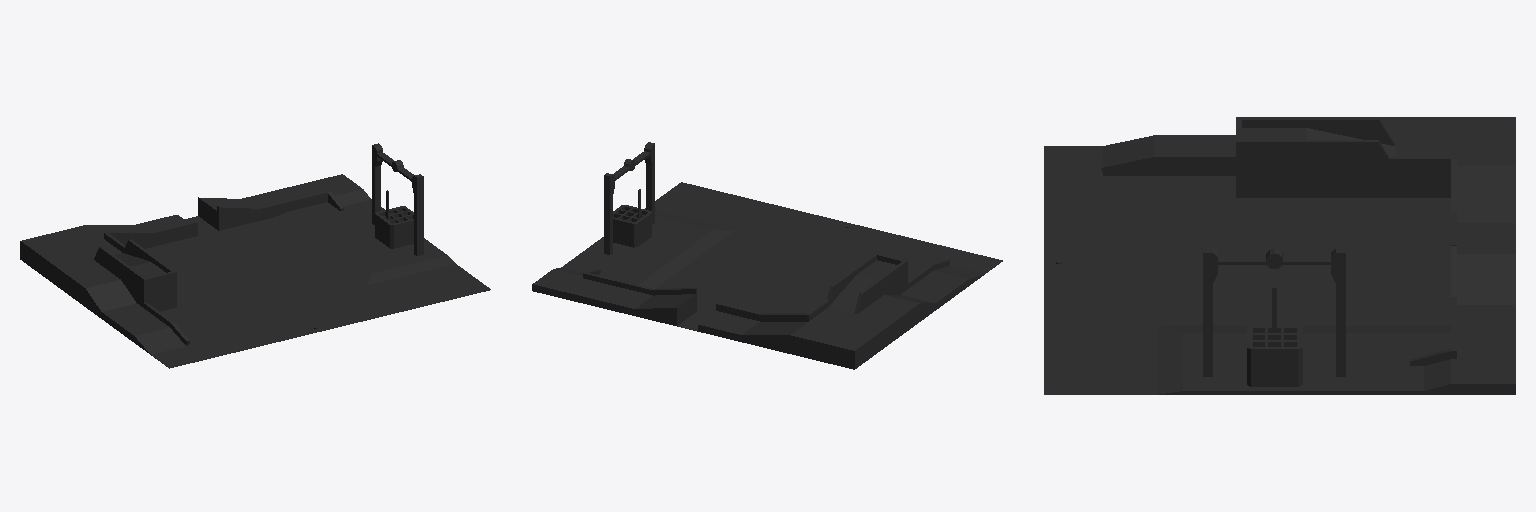
robot.urdf — rm_2v2:
<?xml version="1.0" encoding="utf-8"?>
<!-- This URDF was automatically created by SolidWorks to URDF Exporter! Originally created by [author] ([email redacted]) 
     Commit Version: 1.5.1-0-g916b5db  Build Version: 1.5.7152.31018
     For more information, please see http://wiki.ros.org/sw_urdf_exporter -->
<robot
  name="rm_2v2">
  <link
    name="base_link">
    <inertial>
      <origin
        xyz="-0.020744 0.0019515 1.0769E-06"
        rpy="0 0 0" />
      <mass
        value="759.3" />
      <inertia
        ixx="2390.9"
        ixy="-0.0019573"
        ixz="-380.15"
        iyy="6914.3"
        iyz="-5.9904E-06"
        izz="4523.5" />
    </inertial>
    <visual>
      <origin
        xyz="0 0 0"
        rpy="0 0 0" />
      <geometry>
        <mesh
          filename="package://rm_2v2/meshes/base_link.STL" />
      </geometry>
      <material
        name="">
        <color
          rgba="0.22353 0.22353 0.22353 1" />
      </material>
    </visual>
    <collision>
      <origin
        xyz="0 0 0"
        rpy="0 0 0" />
      <geometry>
        <mesh
          filename="package://rm_2v2/meshes/base_link.STL" />
      </geometry>
    </collision>
  </link>
  <link
    name="link_1">
    <inertial>
      <origin
        xyz="2.4133 -0.68138 -1.3136"
        rpy="0 0 0" />
      <mass
        value="3897.7" />
      <inertia
        ixx="2910.7"
        ixy="-0.00022619"
        ixz="-527.16"
        iyy="4066.7"
        iyz="-7.3997E-05"
        izz="2292.4" />
    </inertial>
    <visual>
      <origin
        xyz="0 0 0"
        rpy="0 0 0" />
      <geometry>
        <mesh
          filename="package://rm_2v2/meshes/link_1.STL" />
      </geometry>
      <material
        name="">
        <color
          rgba="0.75294 0.75294 0.75294 1" />
      </material>
    </visual>
    <collision>
      <origin
        xyz="0 0 0"
        rpy="0 0 0" />
      <geometry>
        <mesh
          filename="package://rm_2v2/meshes/link_1.STL" />
      </geometry>
    </collision>
  </link>
  <joint
    name="joint_1"
    type="fixed">
    <origin
      xyz="-2.4294 -1.3136 0.98596"
      rpy="1.5708 0 0" />
    <parent
      link="base_link" />
    <child
      link="link_1" />
    <axis
      xyz="0 0 0" />
    <calibration
      rising="0.005"
      falling="0.005" />
    <dynamics
      damping="0.75"
      friction="0.6" />
  </joint>
</robot>

--- Facts derived from the render (not from the file) ---
Views: 3 orthographic renders of the robot side by side, from view 1: azimuth 30°, elevation 25°; view 2: azimuth 150°, elevation 25°; view 3: azimuth 270°, elevation 25°.
Model rm_2v2 with 2 links and 1 joints (1 fixed), rooted at base_link, posed all joints at 0.
Links seen in each view (by area): view 1: base_link; view 2: base_link; view 3: base_link.
Boxes of the visible links, x1,y1,x2,y2 form: base_link: (20,143,490,368); base_link: (532,142,1002,369); base_link: (1044,117,1515,394).
Size in the robot's own frame: 10 by 8 by 2.41 metres.
Meshes: 2 distinct files referenced, 1 mesh visuals loaded (1 binary STL); not drawn: 1 (reference not matched to a file when rendering).